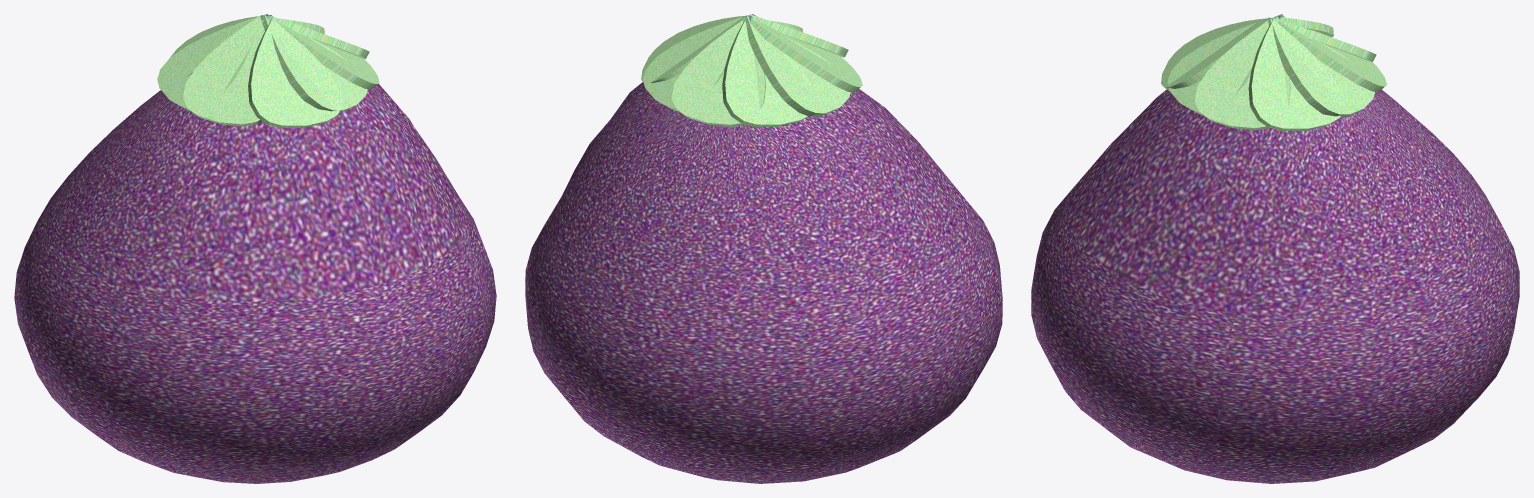
File: eggplant2.fbx
3 views of the same model, side by side, from view 1: azimuth 30°, elevation 25°; view 2: azimuth 150°, elevation 25°; view 3: azimuth 270°, elevation 25° (orthographic). The views are drawn at different scales.
Visible parts, largest first — view 1: pSphere2; view 2: pSphere2; view 3: pSphere2.
Part boxes in pixels (x1,y1,x2,y2): pSphere2: (14, 14, 496, 483); pSphere2: (525, 14, 1002, 483); pSphere2: (1031, 14, 1519, 483).
Bounding box in the file's own units: 2.12 × 2.11 × 2.11.
